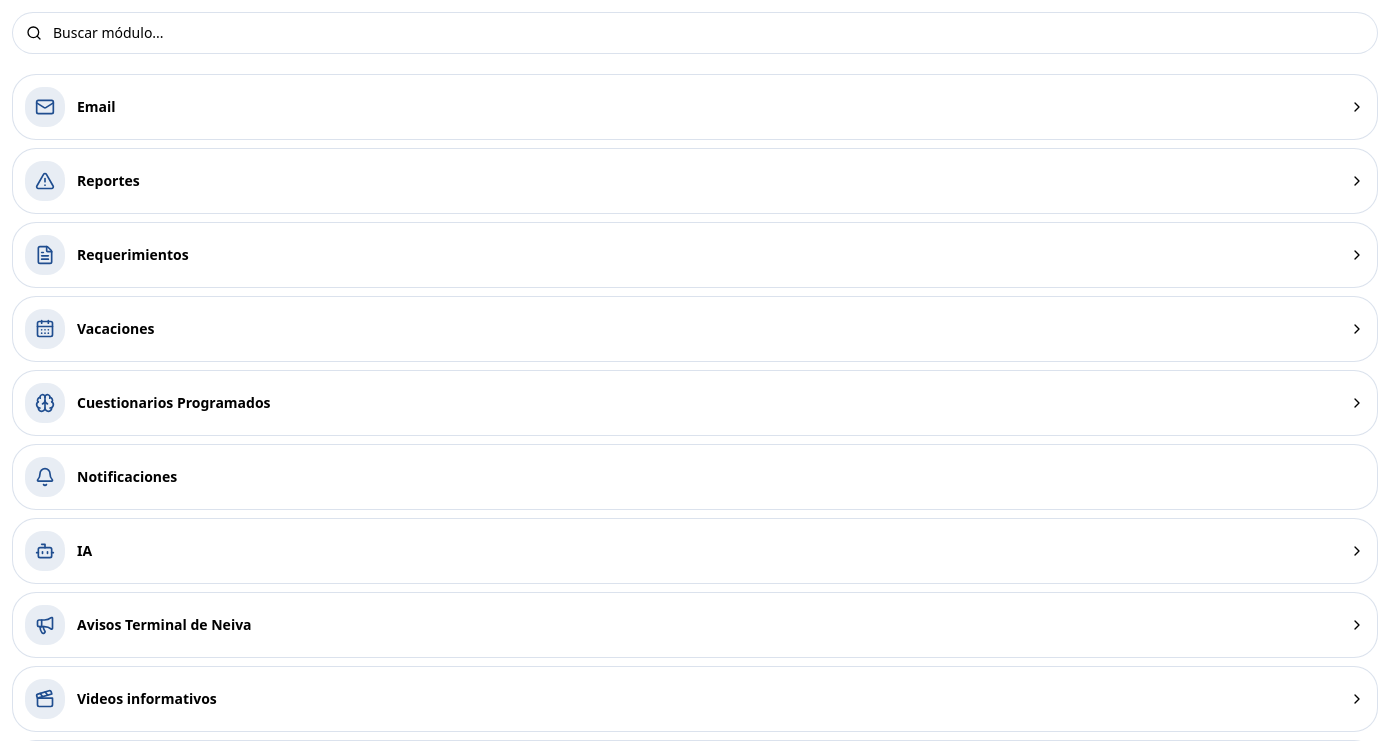
Scenario: MasSheetContent › un tap en el grupo lo despliega, y otro tap lo vuelve a cerrar
Click the button "Email" at (45, 107), box [12,74,1378,140]
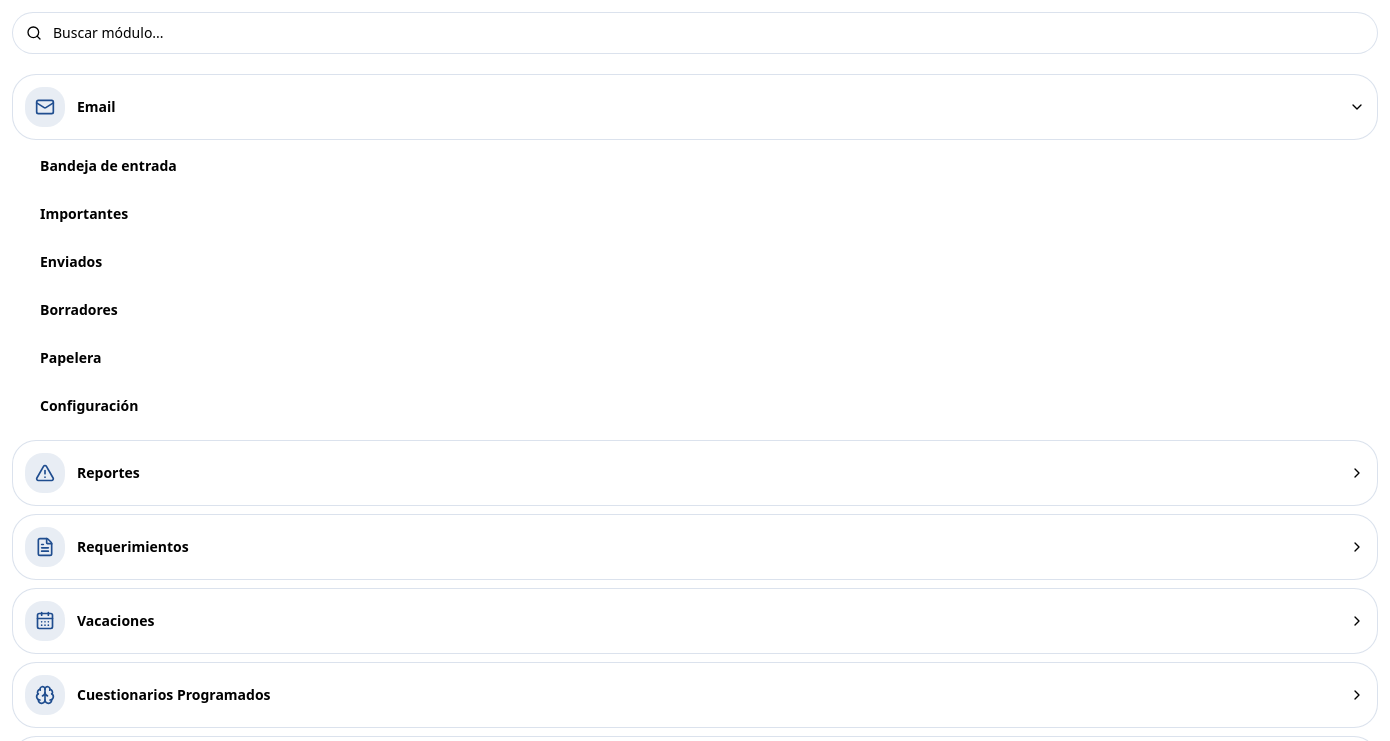
expect the text "Bandeja de entrada" is shown: met, box [40,156,177,175]
Click the button "Email" at (45, 107), box [12,74,1378,140]
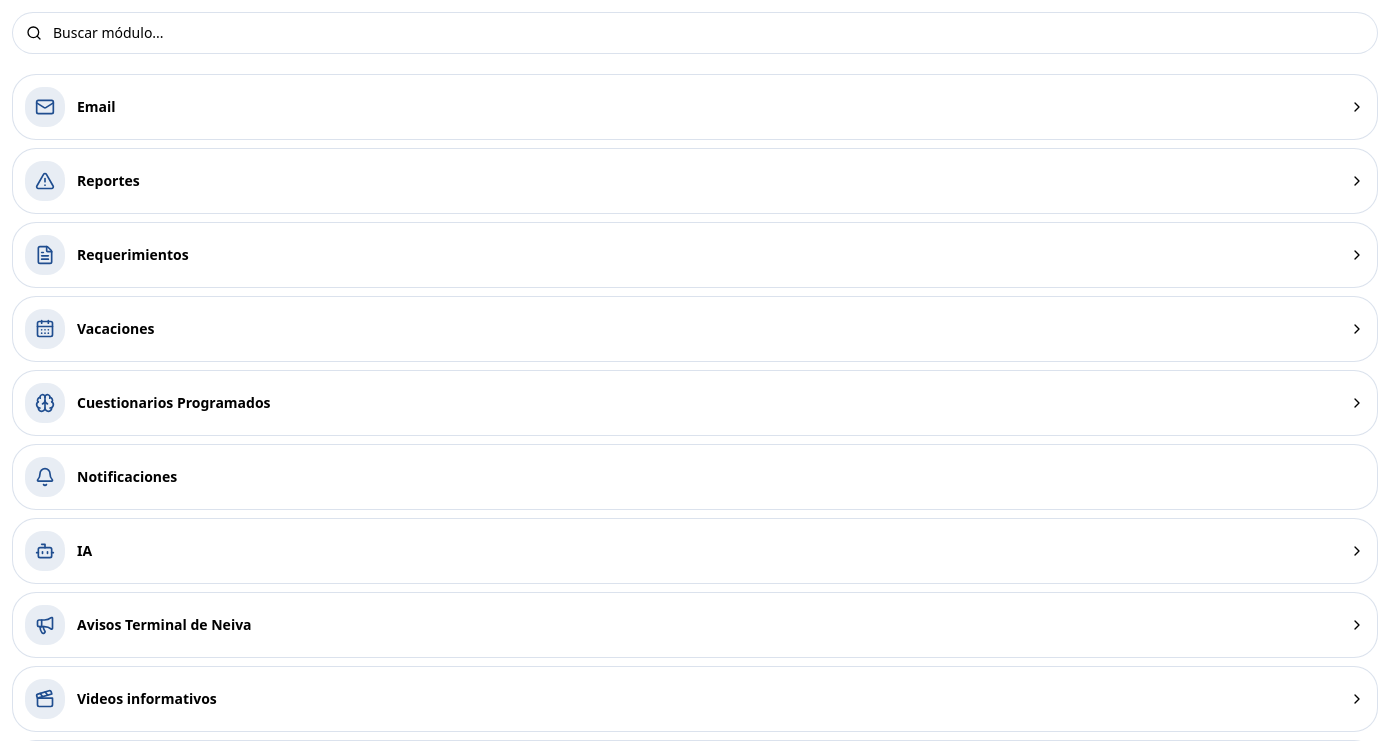
expect the link "Bandeja de entrada" is gone: met
